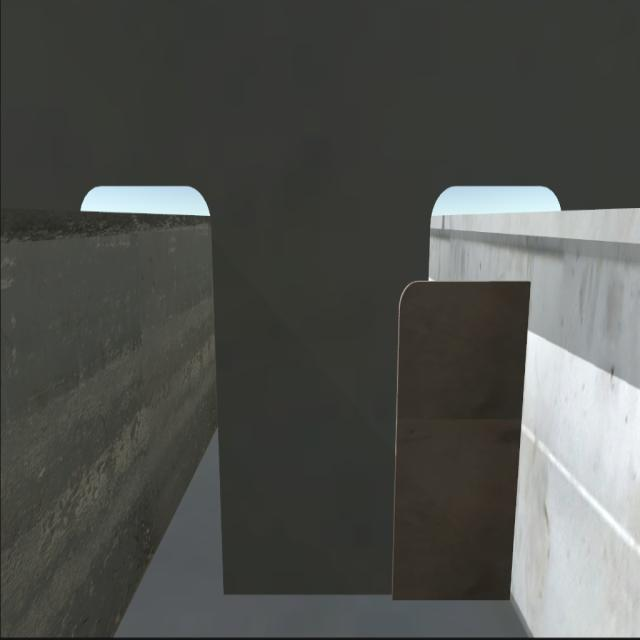fillet_yong_jeop_jang: (222, 578, 518, 609)
longi_yong_jeop_jang: (502, 278, 542, 604)
plate_CP05: (395, 280, 514, 596)
